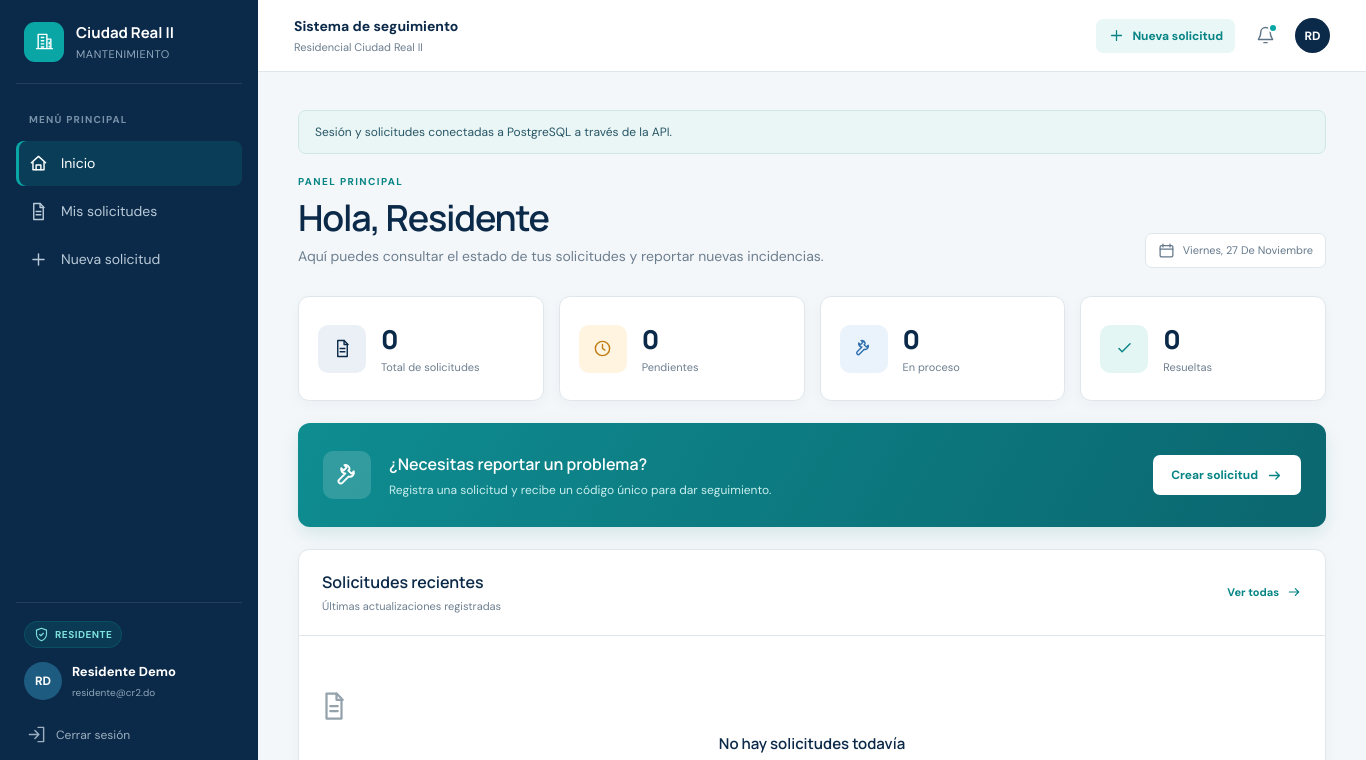
Test: no finge un cierre de sesión si el servidor falla
Click the button "Cerrar sesión" at (129, 730), box x1=20 y1=715 x2=238 y2=744
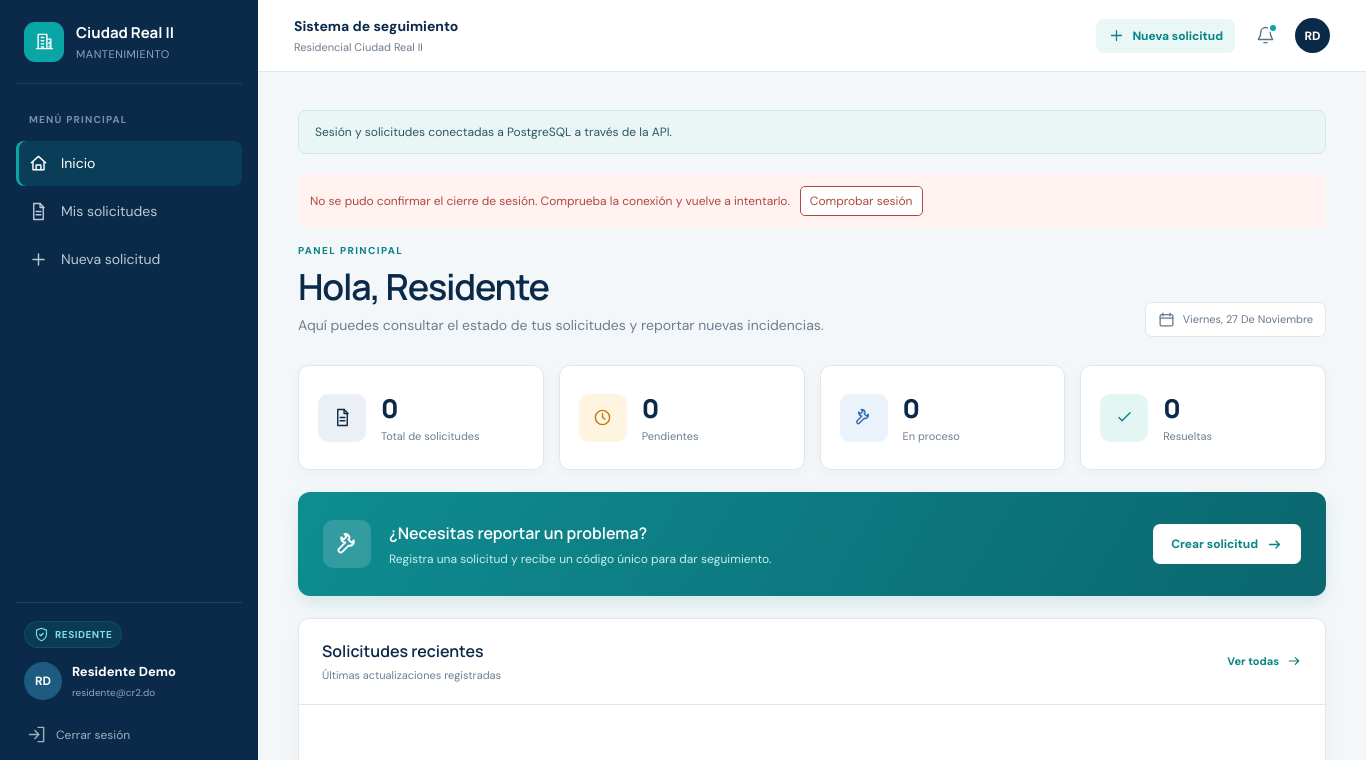
expect the heading "Hola, Residente" is shown: met, box x1=298 y1=262 x2=549 y2=311
expect the message shows "No se pudo confirmar el cierre de sesión": met, box x1=310 y1=193 x2=790 y2=209
